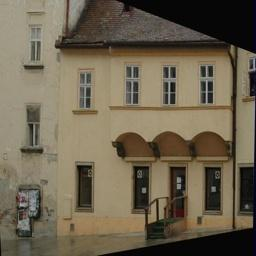building: (57, 0, 234, 228)
